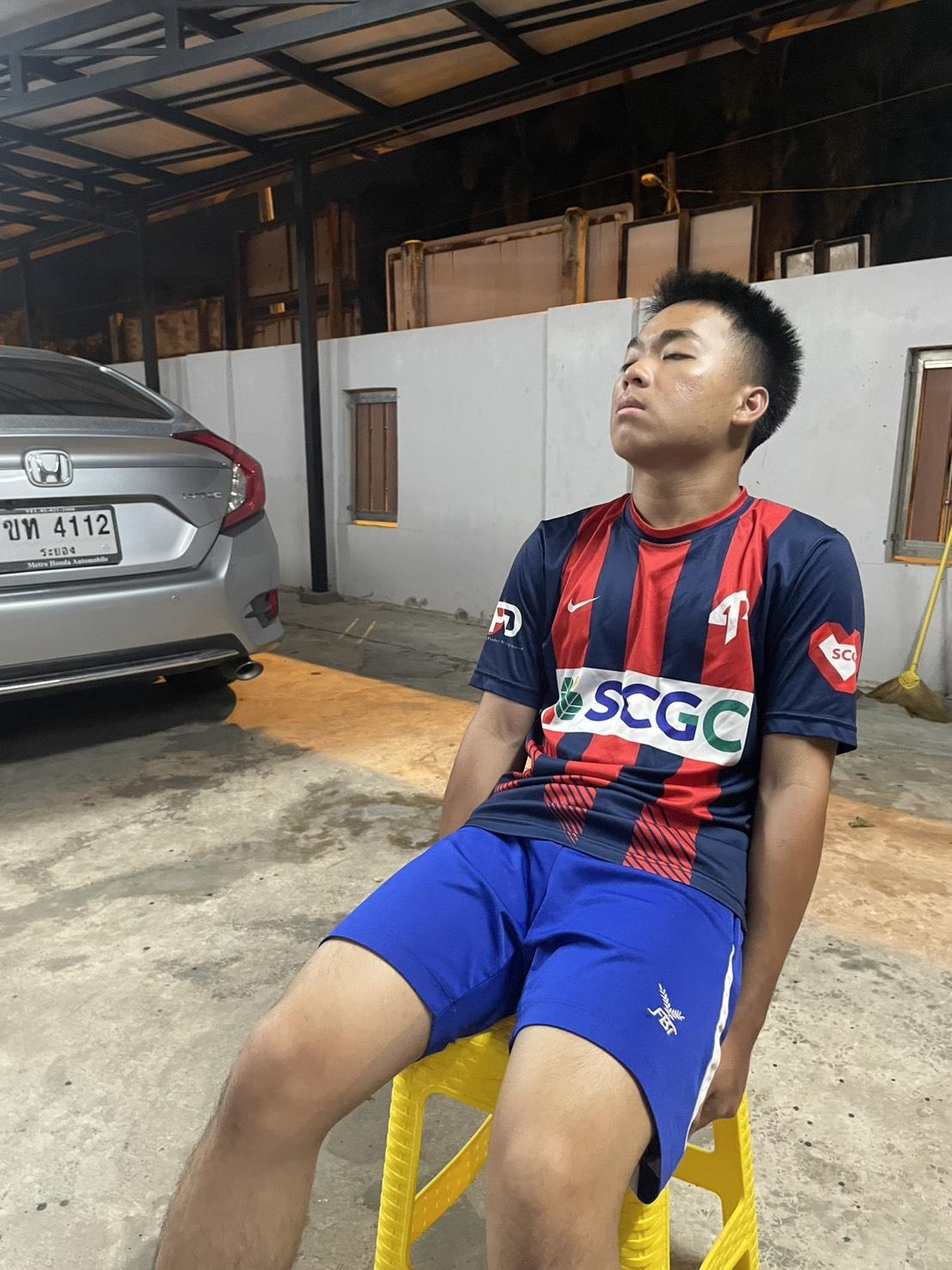BadPosture: (471, 271, 863, 919)
